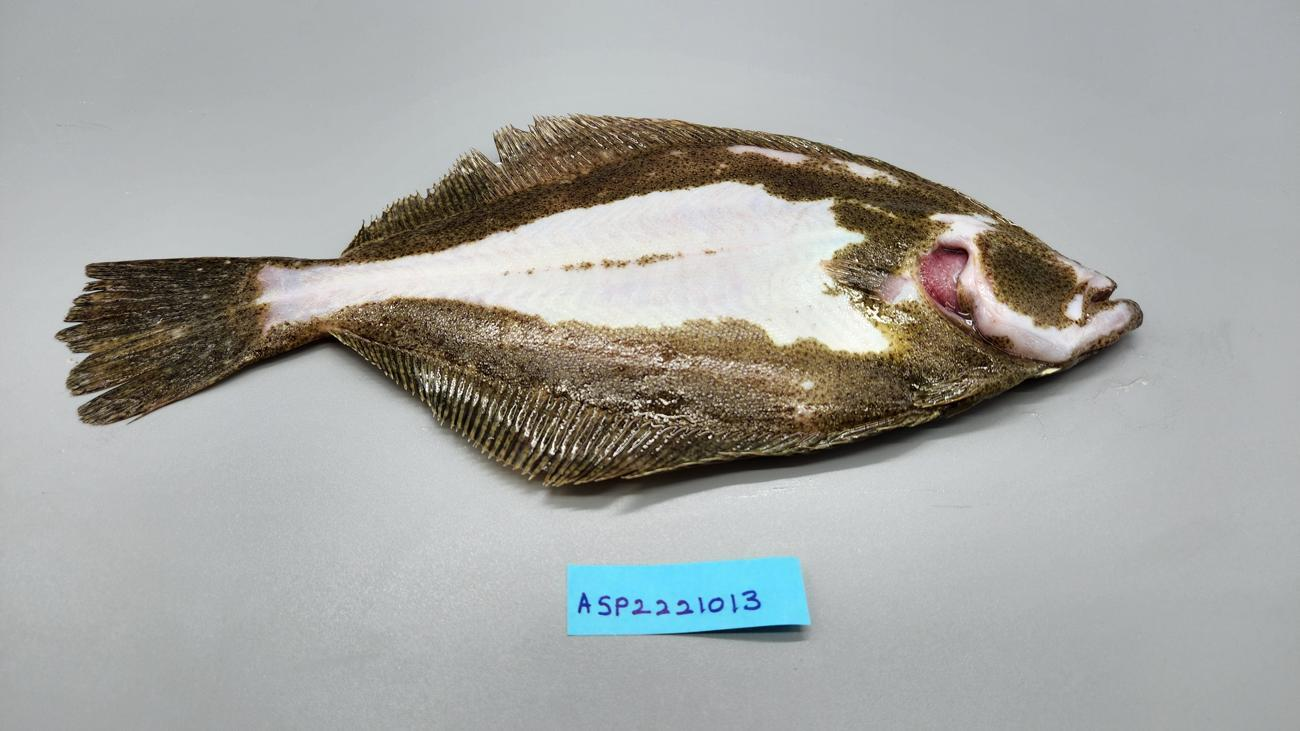SPDYH: (716, 370, 822, 430), (874, 270, 913, 308)
SPOUY: (46, 106, 1154, 500)
